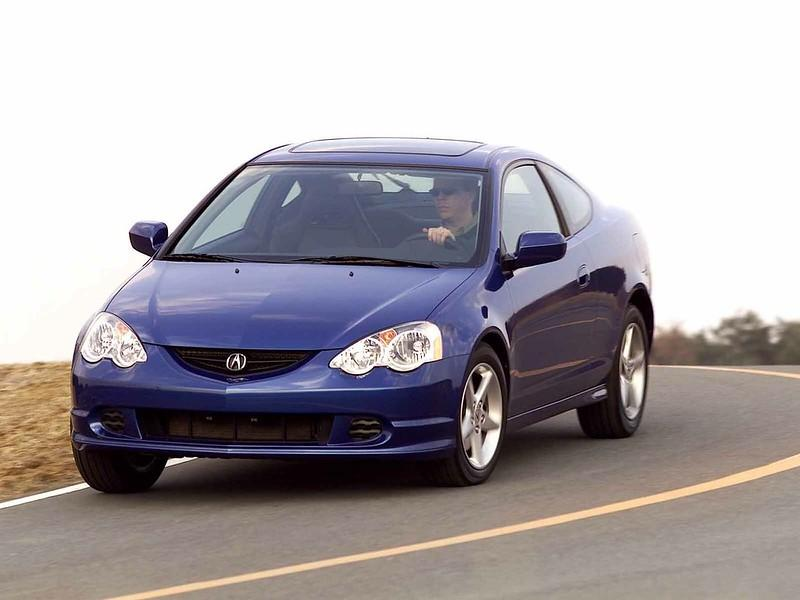windshield: (145, 157, 492, 282)
